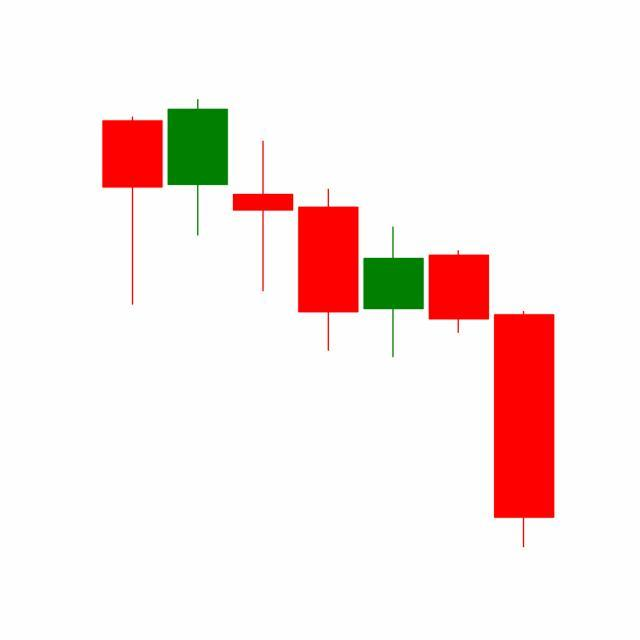Three Outside Up-Down: (360, 222, 556, 549)
